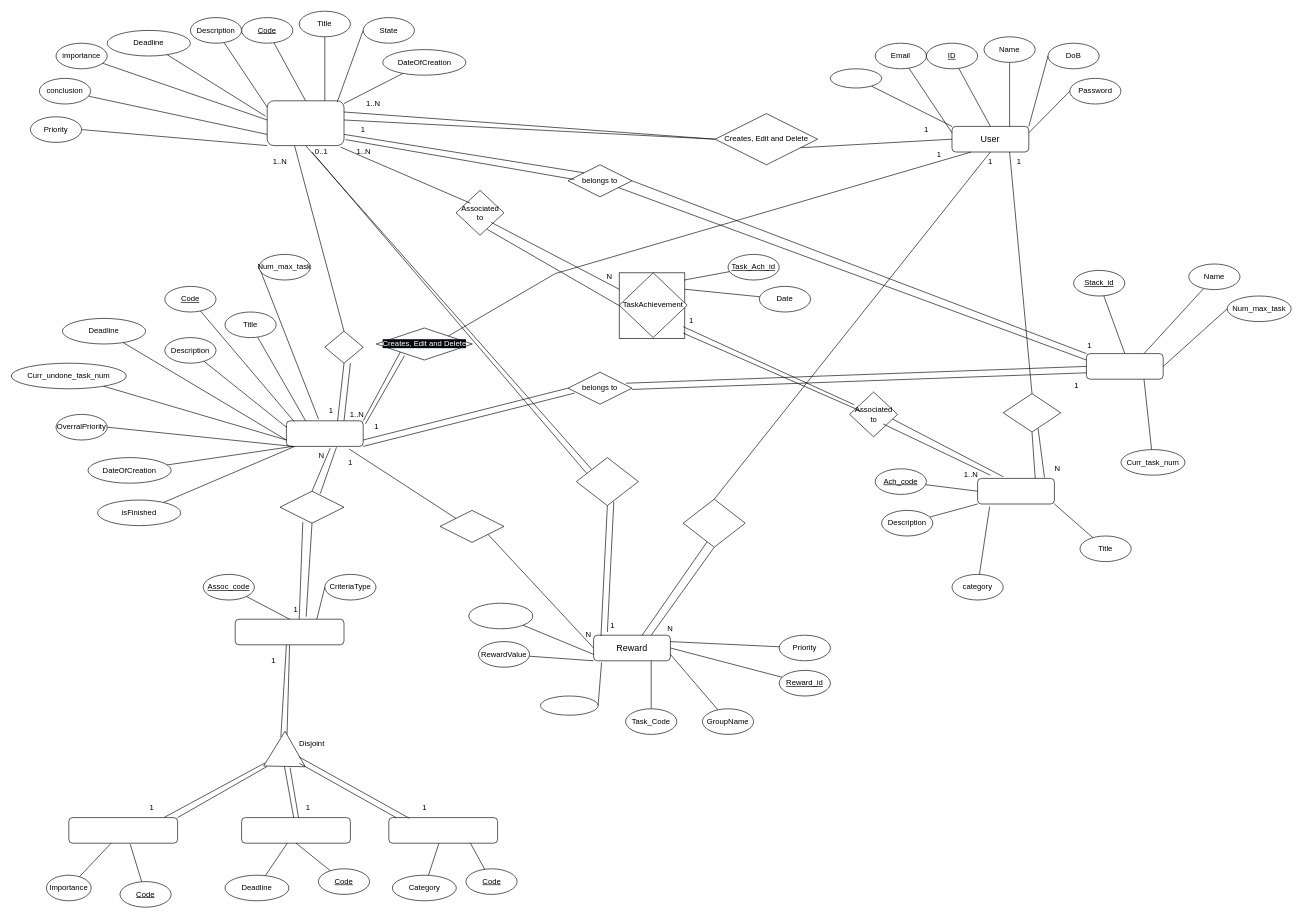
Some shapes in this 1302 by 918 pixel diagram are drawn without their labels. The shapes that lost their labels are listed below. From the top down, each one's centre as x and y in pixels, then its label:
the point at 856,78: Score
the point at 305,123: Task
the point at 1124,366: Stack
the point at 1032,412: Achevied by
the point at 324,433: TaskGroup
the point at 607,481: rewarded by
the point at 1015,491: Achievement
the point at 311,507: Categorizes
the point at 471,526: Rewarded to
the point at 714,523: Rewarded for
the point at 289,632: GroupAssociationType
the point at 500,616: Date_Time
the point at 569,705: TaskDeadline
the point at 284,748: Is-a
the point at 123,830: ImportanceAssociation
the point at 295,830: DeadlineAssociation
the point at 443,830: CategoryAssociation
